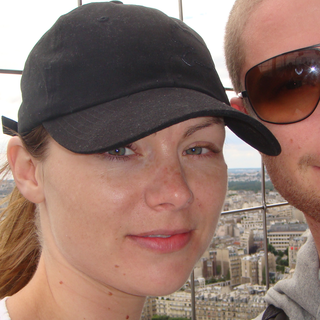eye: (177, 140, 220, 163), (101, 139, 140, 161)
